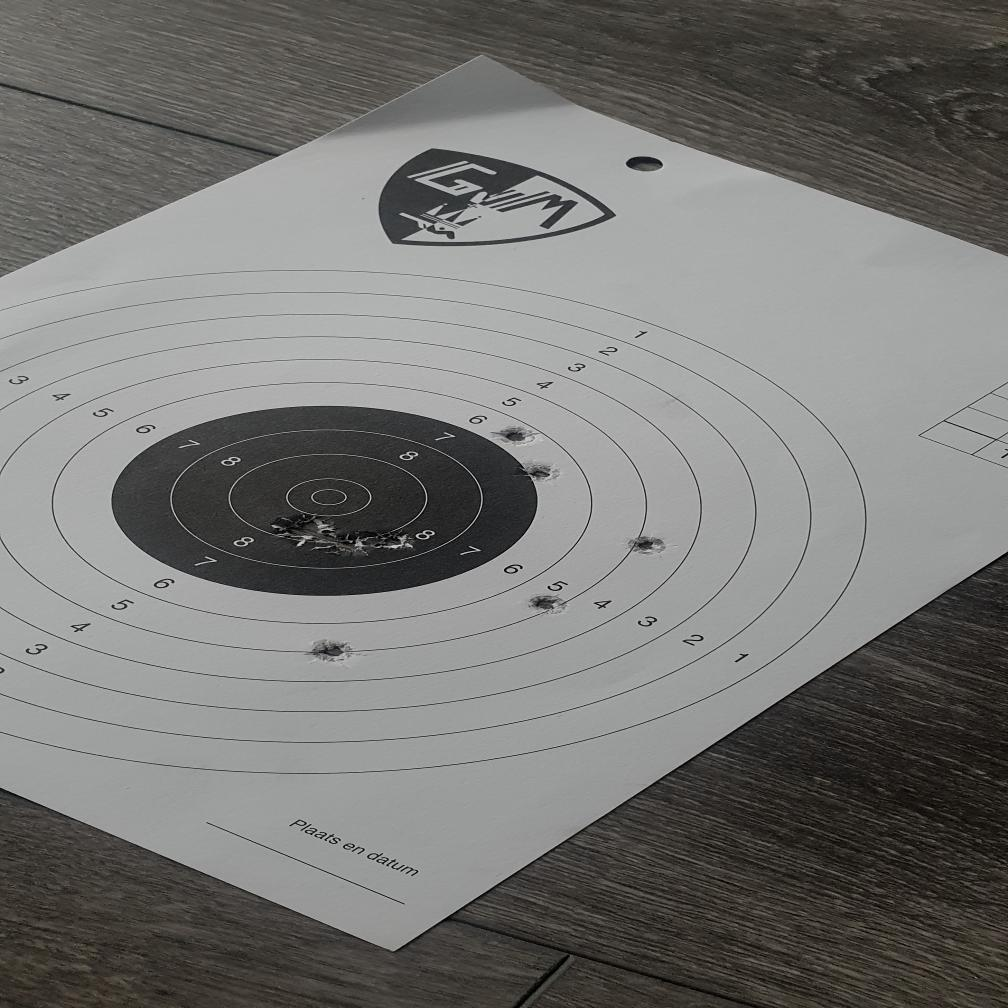5: (303, 641, 355, 664), (524, 594, 573, 616), (626, 534, 670, 555)
6: (493, 424, 544, 447)
7: (512, 460, 570, 484)
9: (323, 535, 367, 555), (290, 514, 332, 533), (370, 531, 410, 549), (274, 524, 310, 542)
Target: (0, 267, 877, 773)
black_contour: (113, 406, 537, 596)
